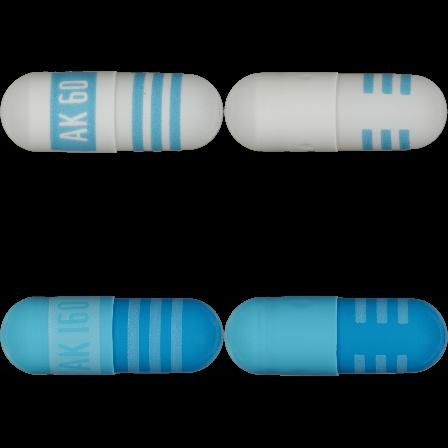43478-900: (0, 0, 224, 224)
